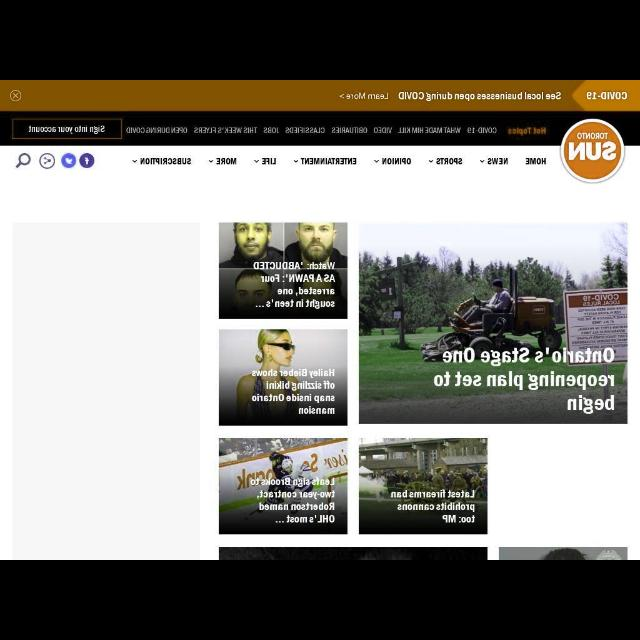icon: (10, 90, 22, 102), (372, 158, 380, 164), (479, 158, 485, 164), (293, 158, 299, 164), (253, 158, 259, 164), (428, 159, 434, 163), (208, 159, 214, 163), (131, 159, 137, 163)
image: (360, 222, 628, 424), (219, 438, 347, 536), (218, 330, 348, 426), (358, 438, 488, 534), (218, 224, 348, 318), (560, 118, 624, 184), (218, 546, 488, 560), (500, 548, 628, 558)
multitab: (126, 126, 546, 136), (132, 158, 546, 166)
spinner: (294, 157, 356, 165), (132, 157, 192, 165), (373, 157, 412, 166), (428, 157, 462, 167), (479, 156, 509, 166), (208, 158, 236, 166), (254, 158, 276, 165)
text: (339, 91, 561, 101), (28, 125, 106, 134), (396, 126, 462, 134), (192, 126, 258, 134), (586, 90, 628, 102), (126, 126, 188, 134), (299, 158, 356, 166), (140, 157, 192, 165), (508, 126, 546, 136), (285, 126, 325, 134), (331, 126, 367, 134), (467, 126, 498, 134), (382, 158, 412, 166), (487, 156, 509, 166), (436, 157, 462, 165), (526, 157, 546, 167), (216, 157, 237, 166), (373, 126, 393, 134), (262, 157, 276, 165), (262, 128, 280, 134)
textbutton: (12, 120, 122, 138)
